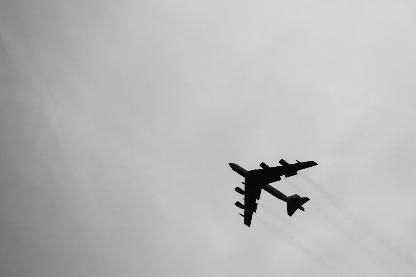B2: (228, 158, 318, 226)
